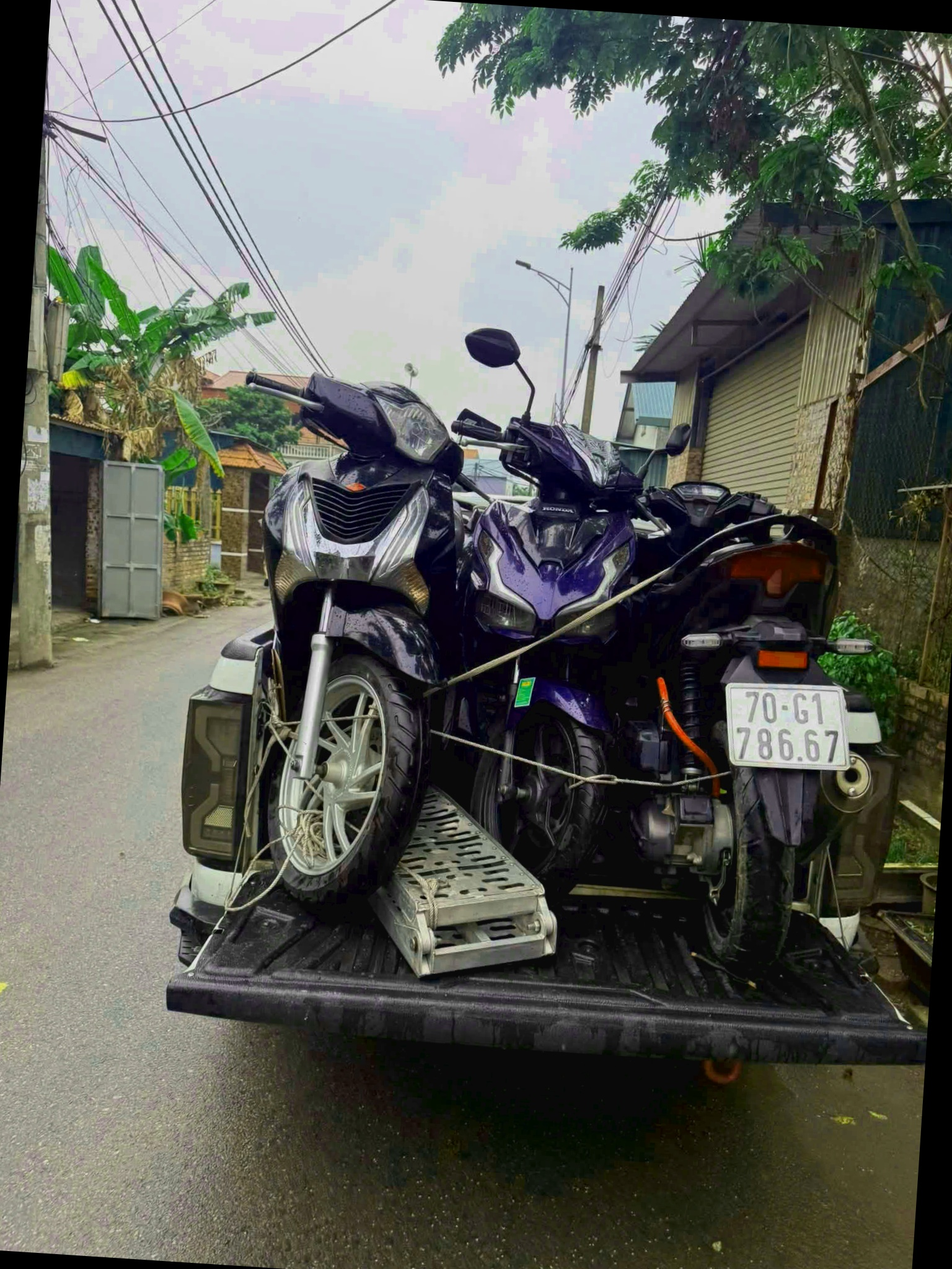Bien-so: (744, 675, 872, 769)
